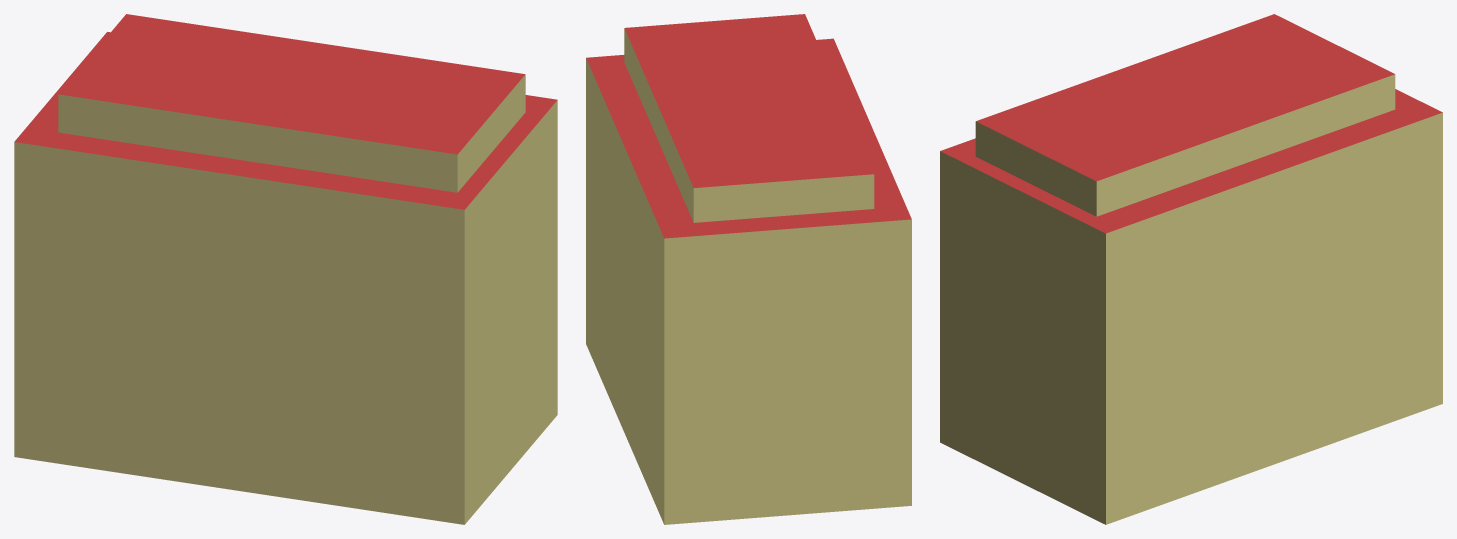
3 renders of one model, left to right at view 1: azimuth 30°, elevation 25°; view 2: azimuth 150°, elevation 25°; view 3: azimuth 270°, elevation 25°, orthographic. The views are drawn at different scales.
Visible parts, largest first — view 1: group_6, group_4, group_5, group_3; view 2: group_6, group_4, group_3, group_5; view 3: group_6, group_4, group_5, group_3.
Boxes of the visible parts, left/top/right/bottom form: group_6: left=14, top=100, right=557, bottom=524; group_4: left=59, top=14, right=524, bottom=154; group_5: left=58, top=74, right=525, bottom=192; group_3: left=14, top=32, right=557, bottom=209; group_6: left=586, top=58, right=911, bottom=524; group_4: left=624, top=14, right=873, bottom=187; group_3: left=586, top=38, right=911, bottom=238; group_5: left=624, top=28, right=874, bottom=222; group_6: left=940, top=112, right=1442, bottom=524; group_4: left=976, top=14, right=1394, bottom=181; group_5: left=975, top=74, right=1395, bottom=216; group_3: left=940, top=89, right=1442, bottom=233.
Size of the model in its own units: 23.86 by 24.91 by 17.86.
